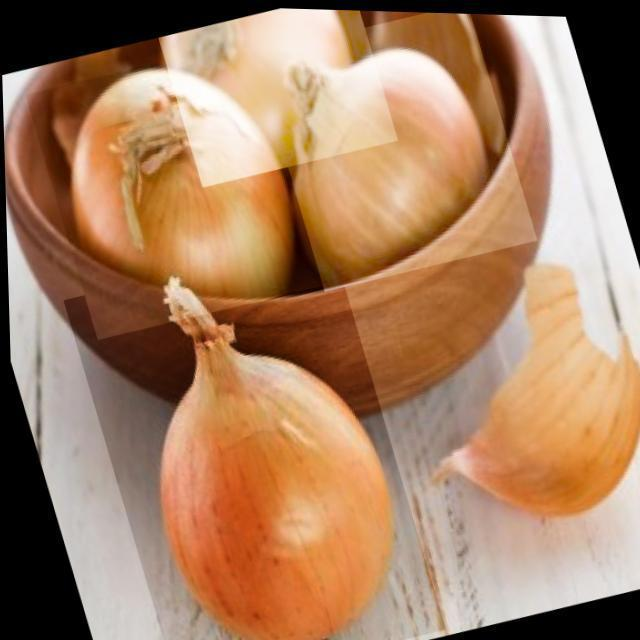Onion: (59, 227, 442, 640), (23, 31, 330, 344), (252, 6, 537, 293), (157, 3, 398, 190)
